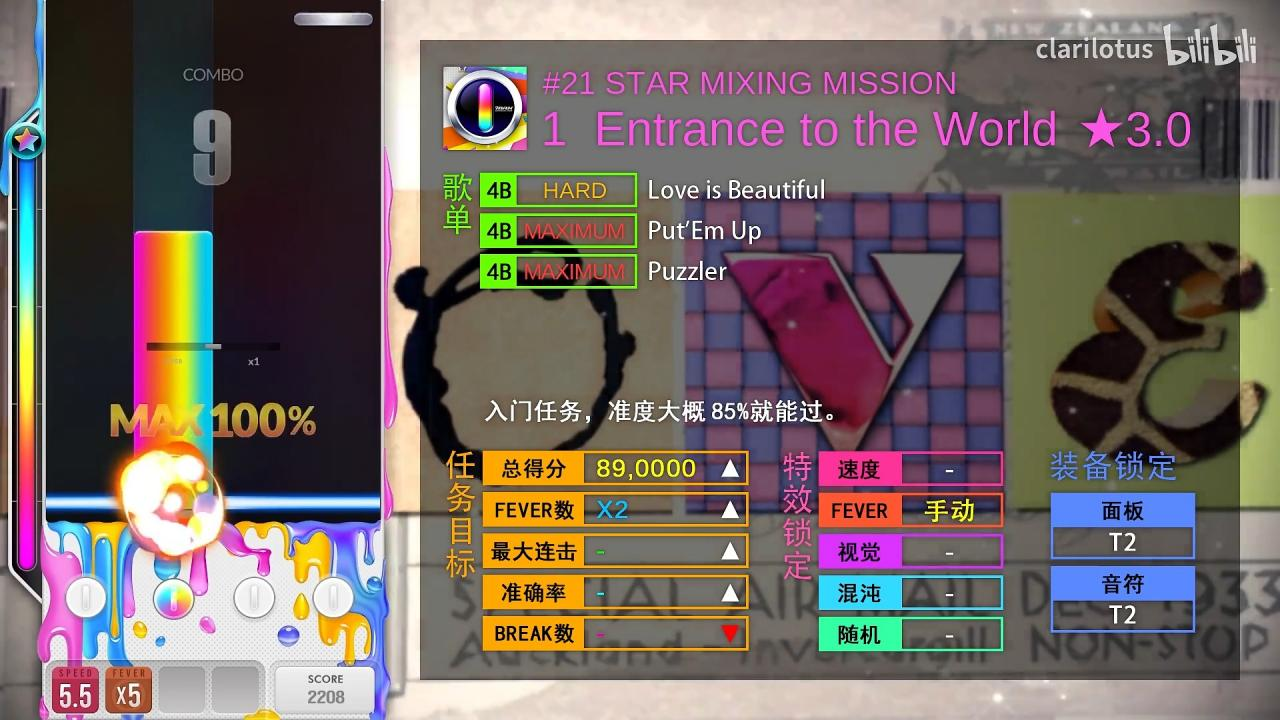hold-end: (134, 231, 214, 246)
note: (295, 12, 373, 27)
